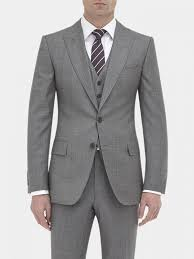F_M_suit jacket: (22, 24, 181, 206)
F_shirt: (77, 15, 117, 79)
F_tie: (85, 29, 109, 75)
